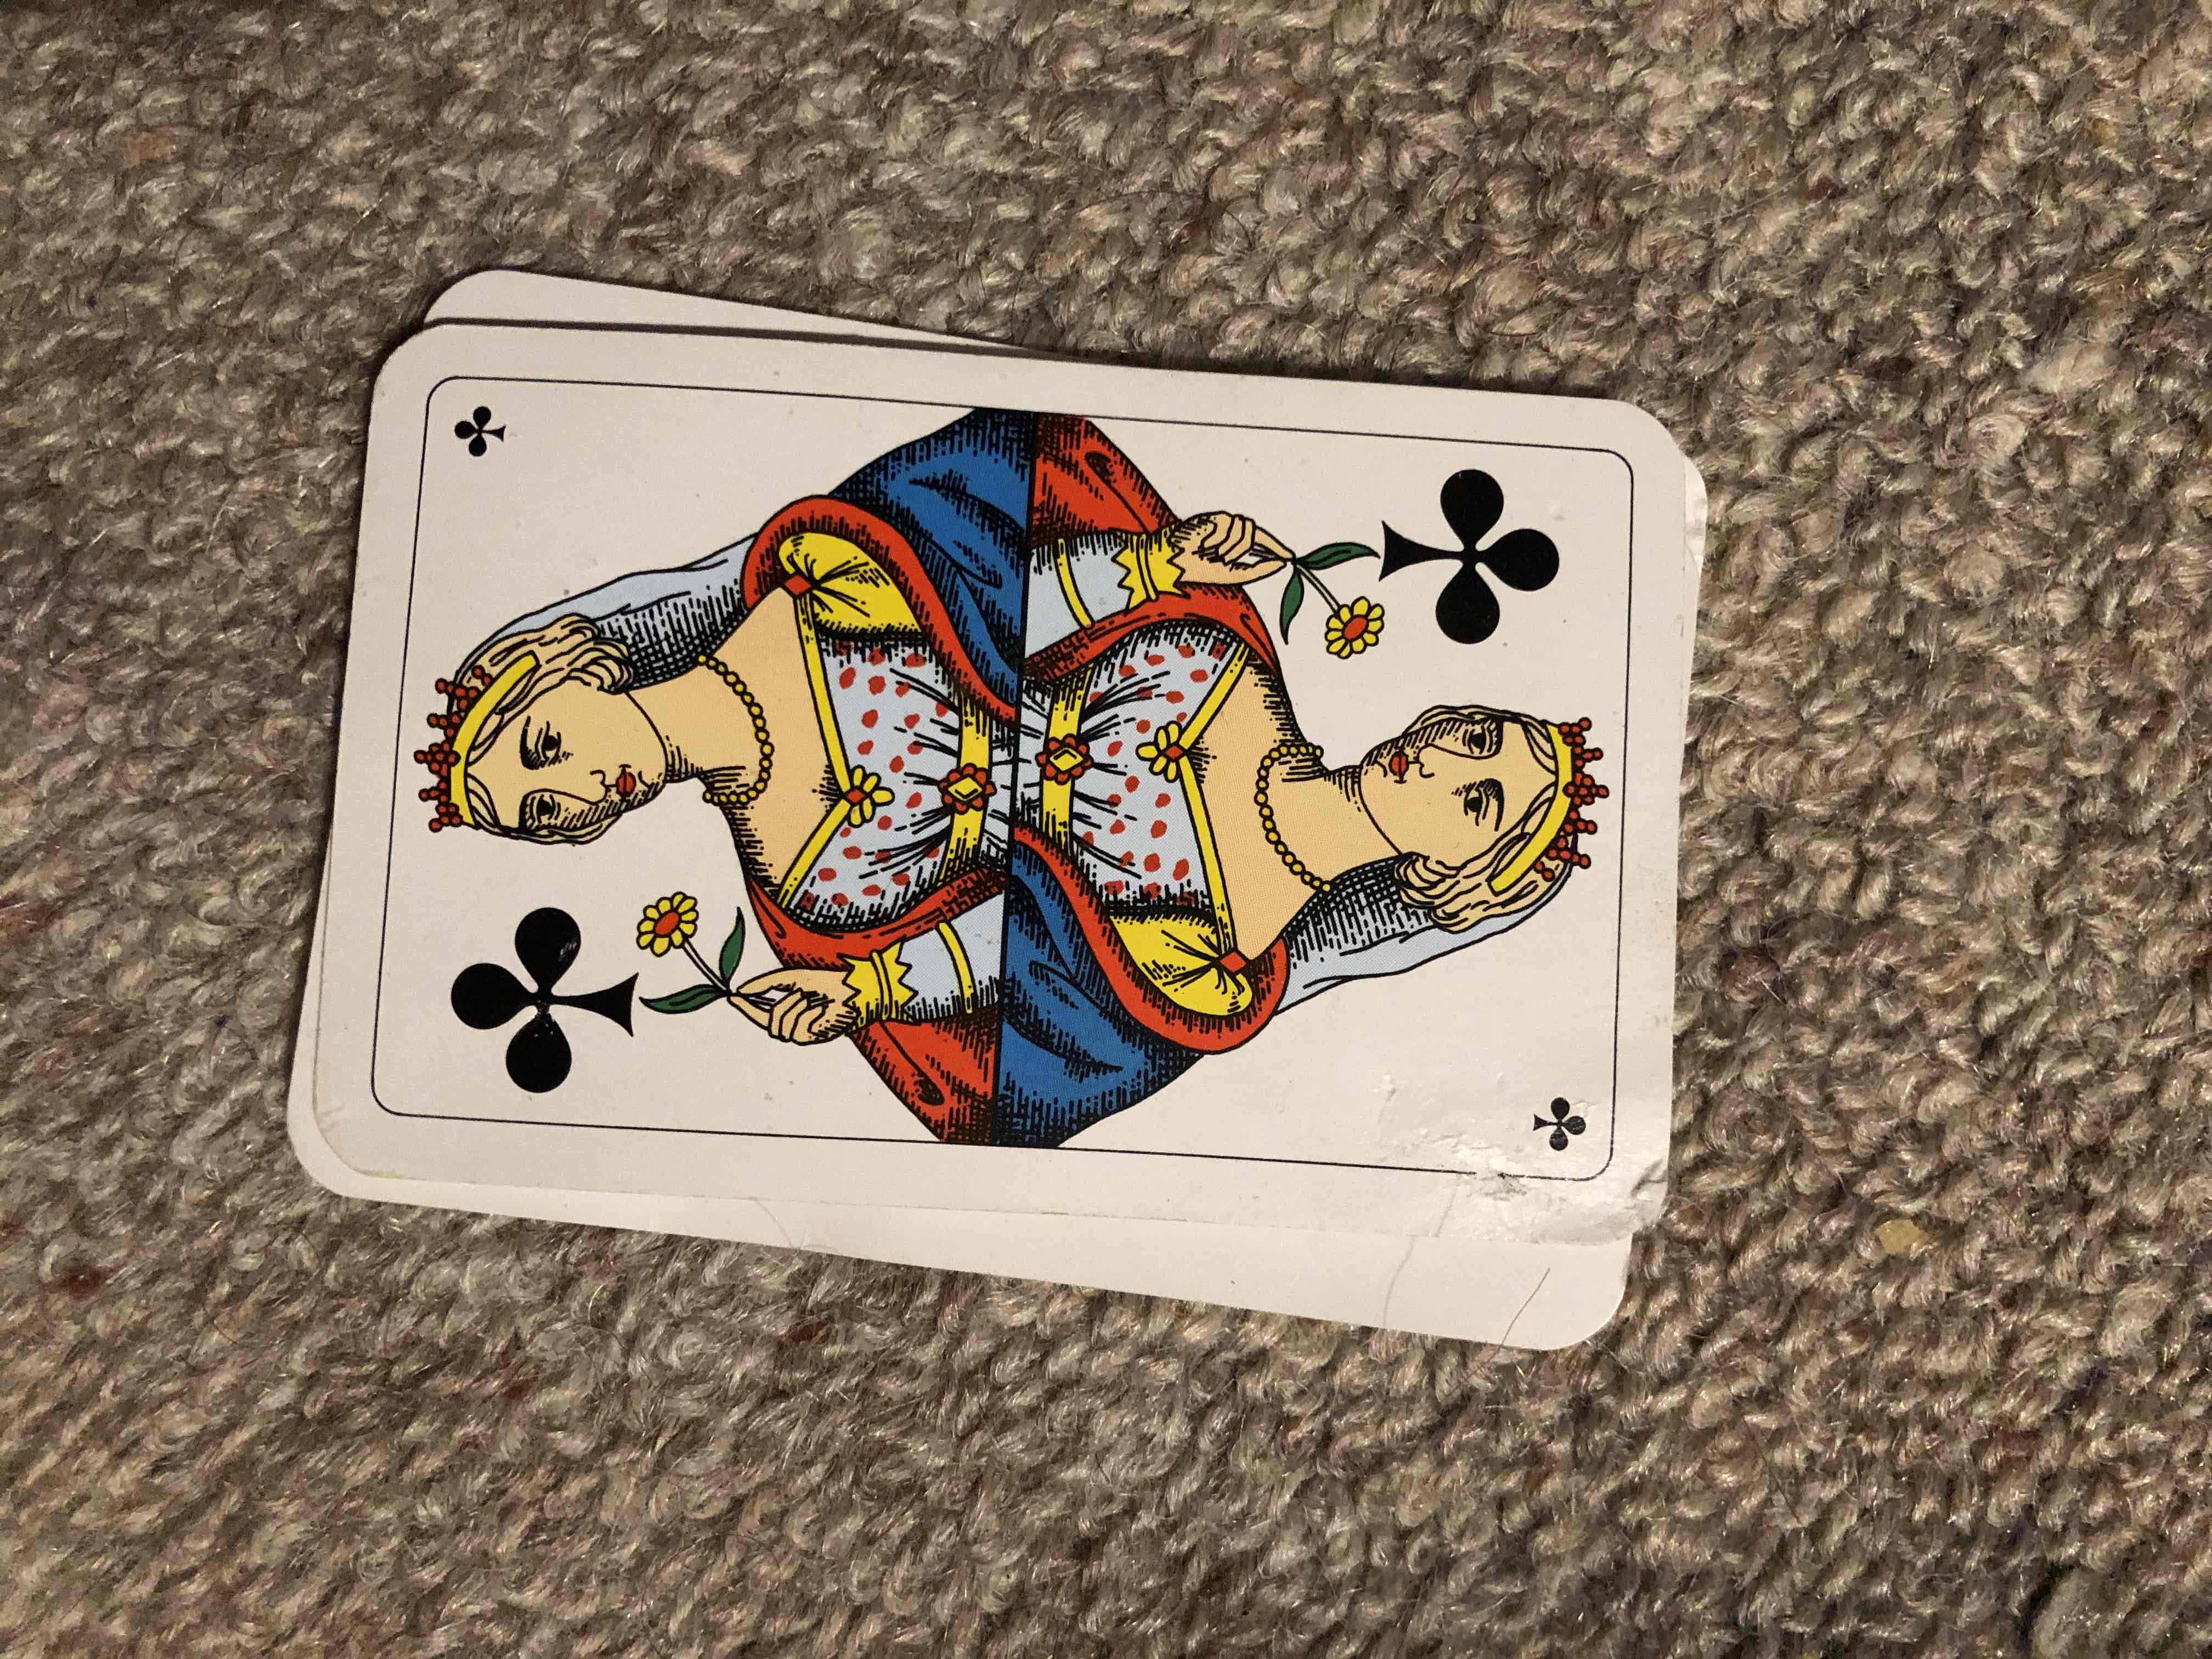clubsQueen: (378, 317, 1669, 1216)
